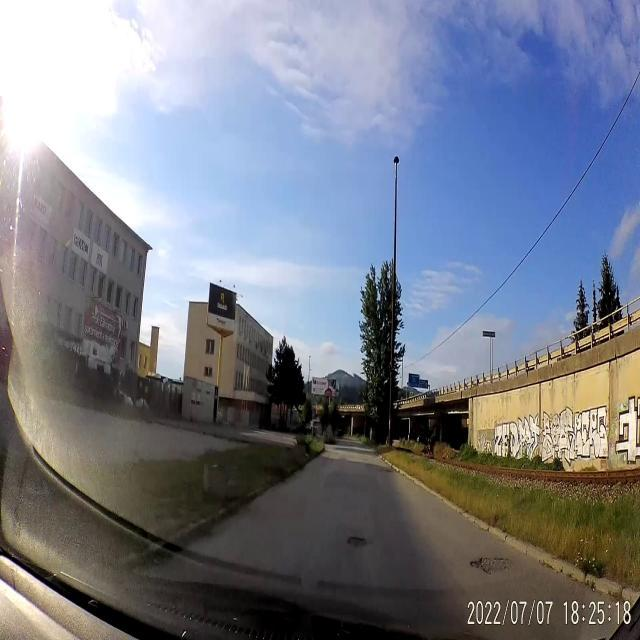Pothole: (468, 548, 517, 584), (343, 532, 371, 552)
